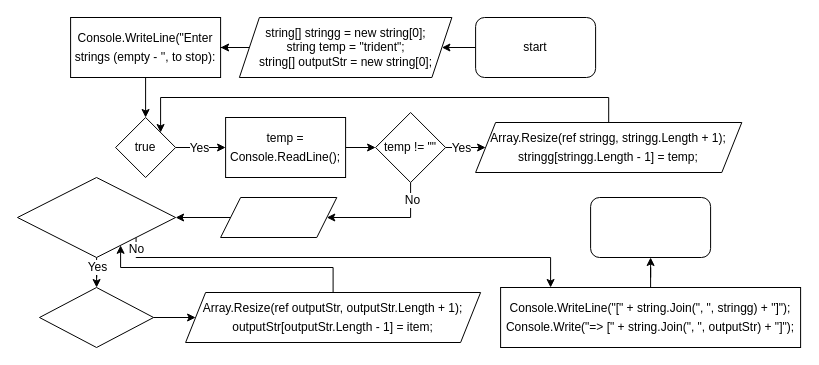
The diagram is 819 pixels wide and 365 high, and some of its shapes have lost their labels. Each missing label, with the centre of its shape:
break;: (278,217)
end: (650,227)
foreach (string item in stringg): (96,217)
item.Length < 4: (96,317)
